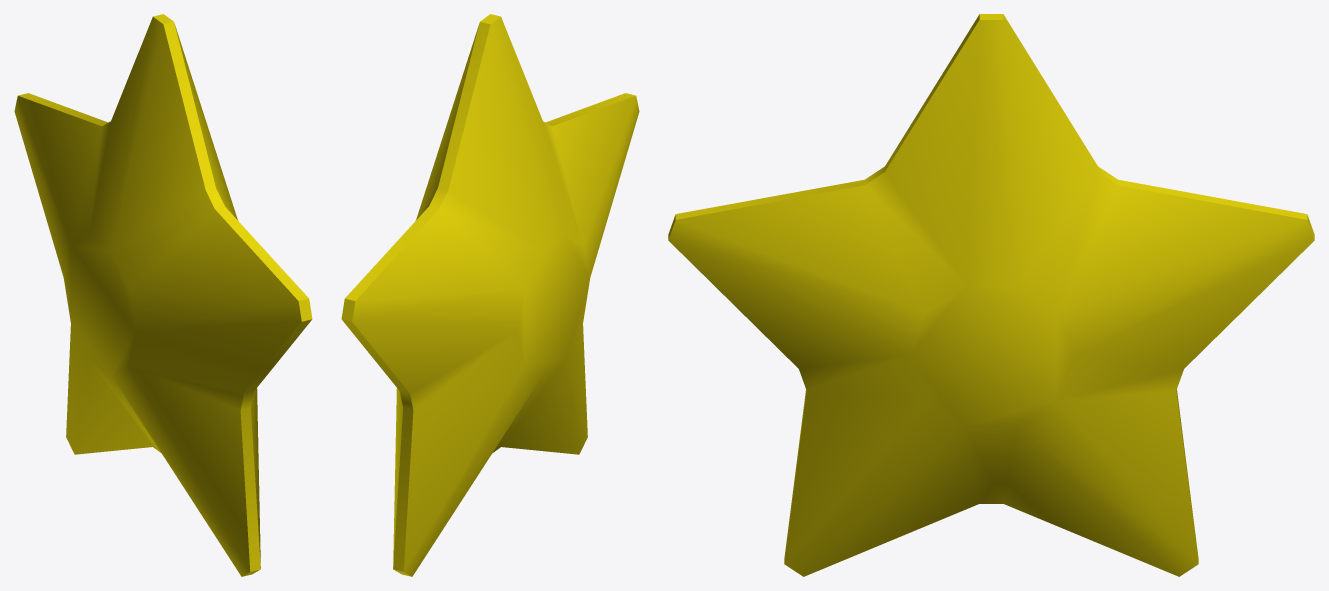
File: star.glb
The picture shows the model from 3 angles, left to right: view 1: azimuth 30°, elevation 25°; view 2: azimuth 150°, elevation 25°; view 3: azimuth 270°, elevation 25°; orthographic projection. The views are drawn at different scales.
Visible parts, largest first — view 1: Cone; view 2: Cone; view 3: Cone.
Boxes of the visible parts, x1,y1,x2,y2 form: Cone: (14, 14, 312, 576); Cone: (341, 14, 639, 576); Cone: (668, 14, 1314, 576).
Bounding box in the file's own units: 0.2713 × 1.01 × 1.06.
